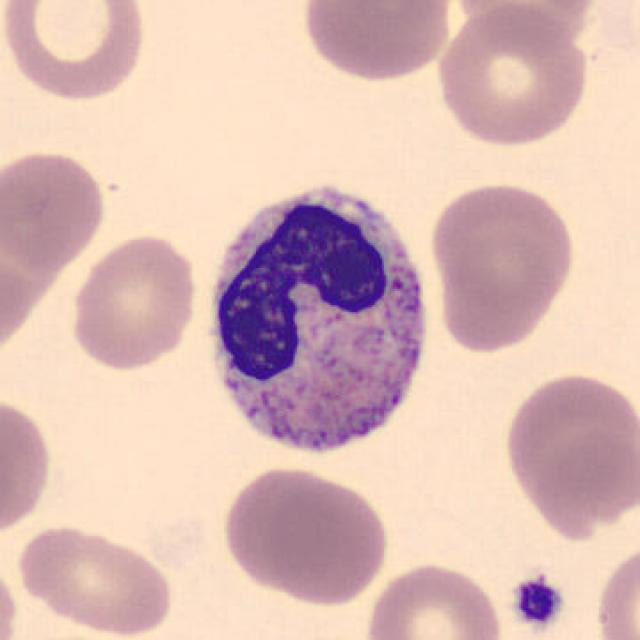Monocyte: (194, 169, 444, 478)
Platelets: (509, 573, 567, 633)
RBC: (425, 176, 579, 354), (217, 462, 393, 606), (432, 2, 594, 150), (499, 367, 636, 534), (12, 520, 178, 638), (66, 229, 201, 374), (0, 0, 151, 104), (0, 146, 110, 272), (299, 0, 455, 83), (361, 559, 507, 640), (0, 392, 57, 542), (450, 0, 602, 55), (592, 539, 638, 640), (0, 553, 21, 640)
